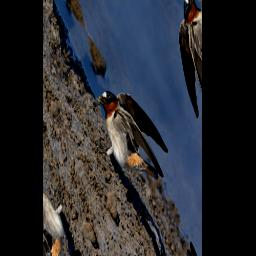Swallow: (83, 59, 175, 219)
